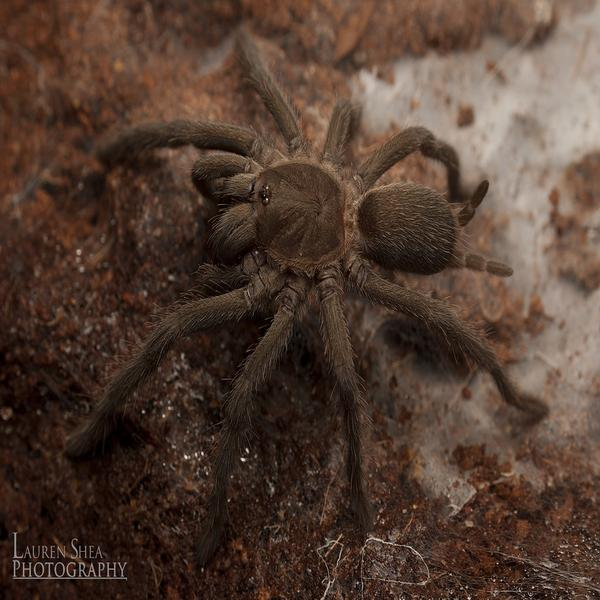Tarantula_Spider: (67, 31, 548, 562)
